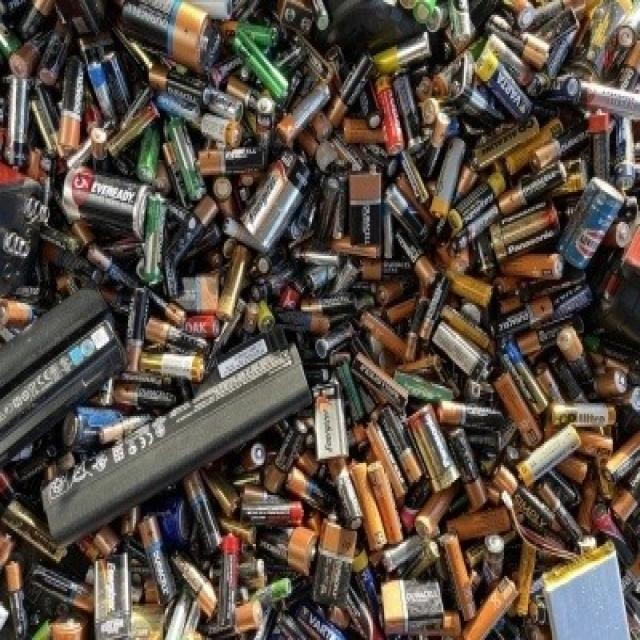B3: (1, 288, 127, 484), (117, 0, 222, 70), (556, 176, 628, 272), (238, 155, 304, 248), (60, 168, 154, 232), (472, 115, 552, 175), (0, 498, 70, 564), (406, 406, 459, 493), (515, 424, 581, 490), (489, 203, 562, 261), (167, 202, 220, 276), (85, 45, 132, 126), (500, 337, 549, 413), (430, 319, 489, 379), (93, 554, 134, 640), (105, 100, 160, 162), (138, 515, 176, 603), (165, 120, 205, 203), (502, 164, 568, 214), (528, 5, 581, 67), (430, 139, 467, 223), (88, 244, 145, 297), (383, 182, 428, 248), (446, 429, 486, 503), (412, 280, 448, 362), (512, 484, 564, 540), (481, 32, 532, 89), (288, 28, 337, 87), (452, 196, 503, 252), (57, 60, 87, 154), (138, 193, 168, 286), (113, 27, 163, 82), (4, 75, 33, 168), (579, 80, 640, 123), (374, 76, 406, 157), (370, 34, 431, 76), (391, 73, 421, 154), (218, 247, 250, 321), (465, 418, 516, 462), (336, 54, 375, 111), (198, 146, 272, 176), (207, 306, 244, 366), (423, 54, 467, 104), (222, 215, 272, 258), (547, 350, 588, 402), (138, 352, 204, 384), (335, 359, 367, 425), (316, 173, 346, 243), (37, 26, 71, 86), (437, 399, 508, 427), (550, 402, 618, 430), (606, 426, 640, 482), (592, 506, 630, 556), (311, 319, 355, 362), (454, 80, 499, 122), (604, 25, 638, 80), (4, 560, 28, 637), (547, 125, 592, 165), (154, 89, 202, 126), (38, 223, 86, 260), (398, 148, 429, 205), (198, 112, 244, 146), (588, 117, 611, 185), (202, 86, 245, 122), (541, 74, 585, 108), (276, 0, 317, 36), (522, 0, 568, 31), (327, 134, 365, 171), (163, 329, 212, 355), (329, 260, 362, 298), (481, 536, 506, 586), (614, 394, 640, 441), (303, 293, 364, 313), (447, 0, 474, 45), (276, 308, 324, 333), (520, 33, 552, 70), (270, 43, 305, 76), (253, 102, 275, 154), (481, 613, 522, 640), (621, 576, 640, 630), (182, 315, 223, 339), (485, 15, 517, 40)
elektronik: (43, 332, 309, 541), (378, 577, 447, 637), (274, 83, 333, 150), (352, 350, 409, 410), (28, 564, 93, 614), (440, 532, 475, 622), (541, 280, 596, 326), (29, 91, 61, 161), (18, 0, 56, 40), (232, 19, 277, 49)
